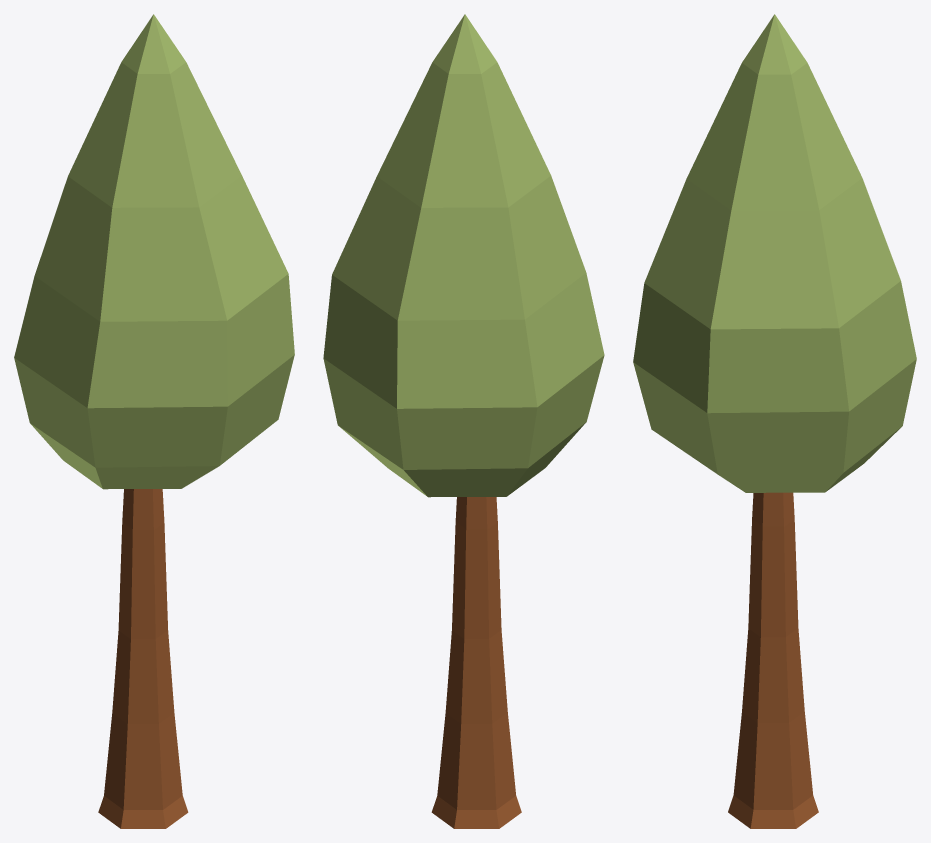
The model's file is MeatballTree_Seedling.fbx.
The picture shows the model from 3 angles, left to right: view 1: azimuth 30°, elevation 25°; view 2: azimuth 150°, elevation 25°; view 3: azimuth 270°, elevation 25°; orthographic projection.
Parts seen in each view (by area): view 1: Sphere; view 2: Sphere; view 3: Sphere.
Part boxes in pixels (x1=…): Sphere: x1=14, y1=14, x2=294, y2=828; Sphere: x1=323, y1=14, x2=604, y2=828; Sphere: x1=633, y1=14, x2=916, y2=828.
Bounding box in the file's own units: 177 × 629 × 201.
